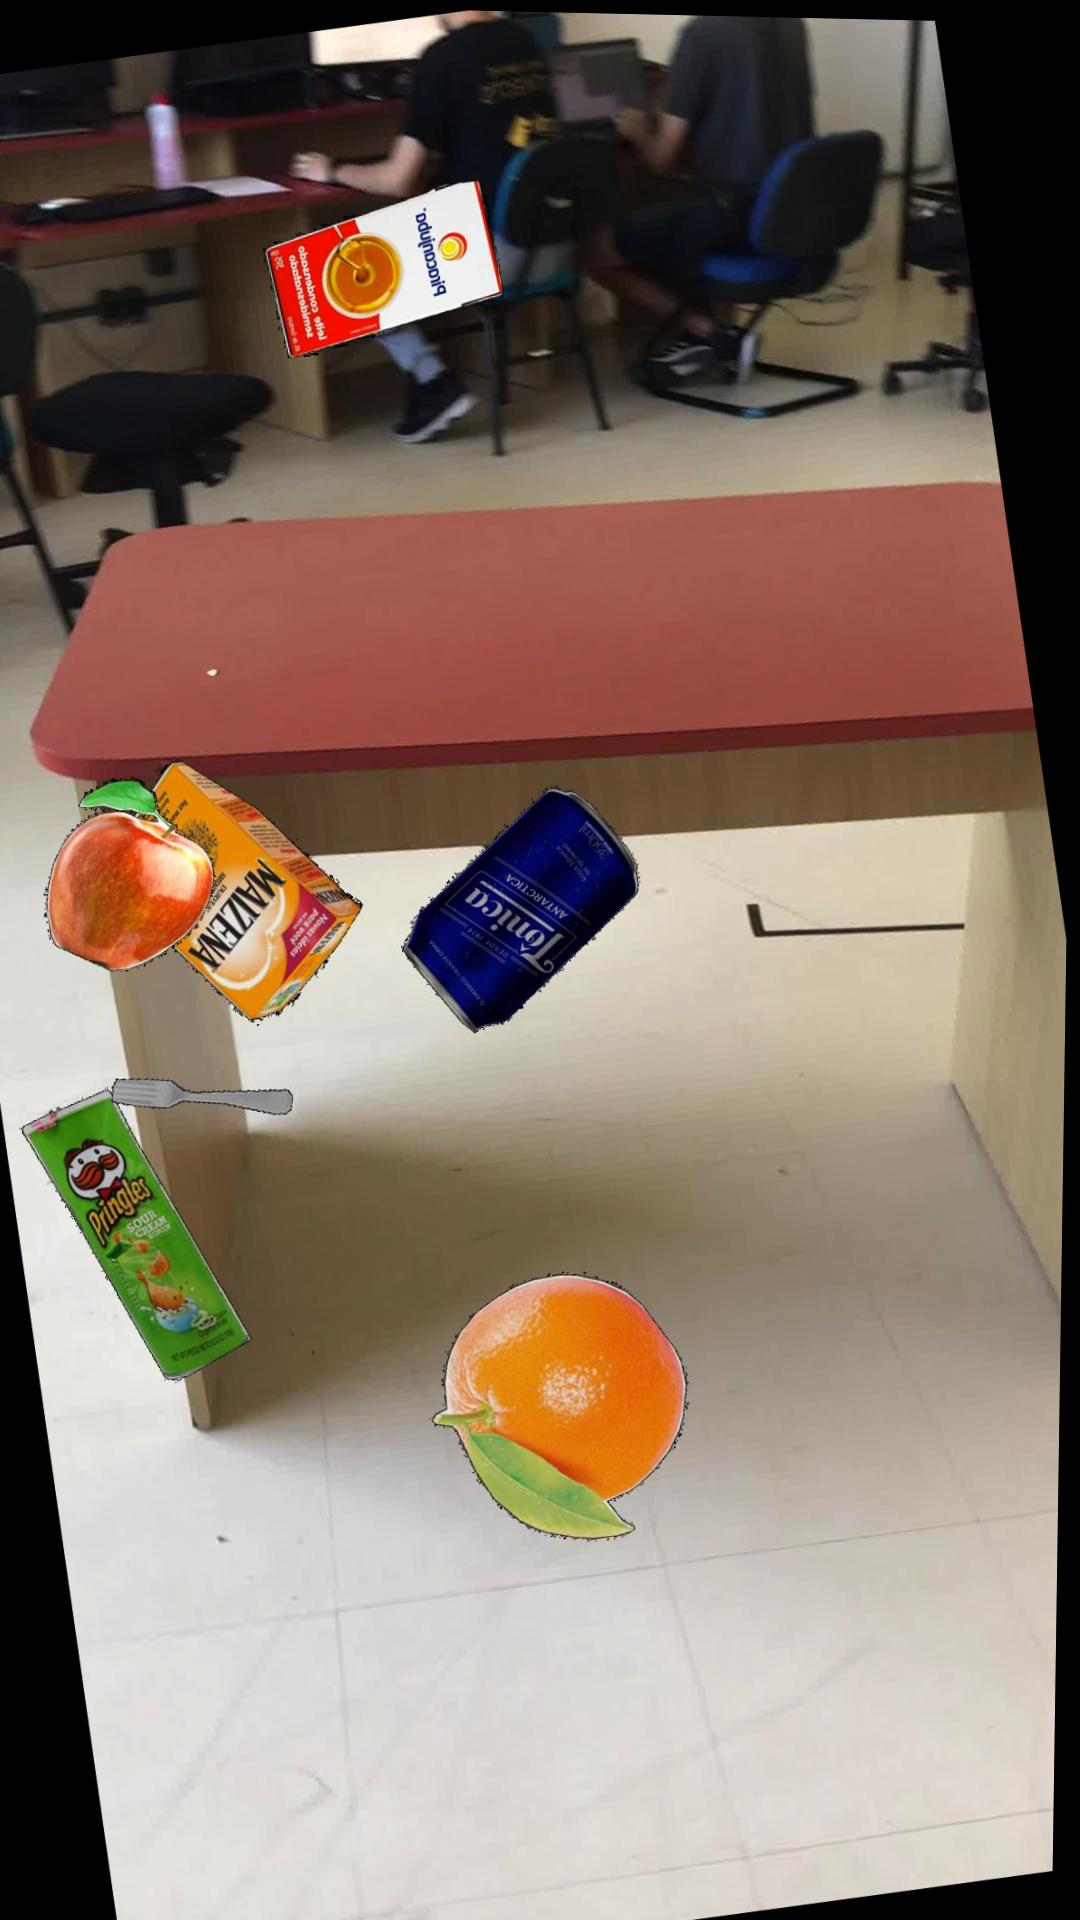apple: (47, 775, 219, 968)
fork: (116, 1076, 297, 1112)
orange: (438, 1269, 694, 1535)
pringles: (26, 1087, 257, 1377)
tonic: (405, 783, 642, 1029)
